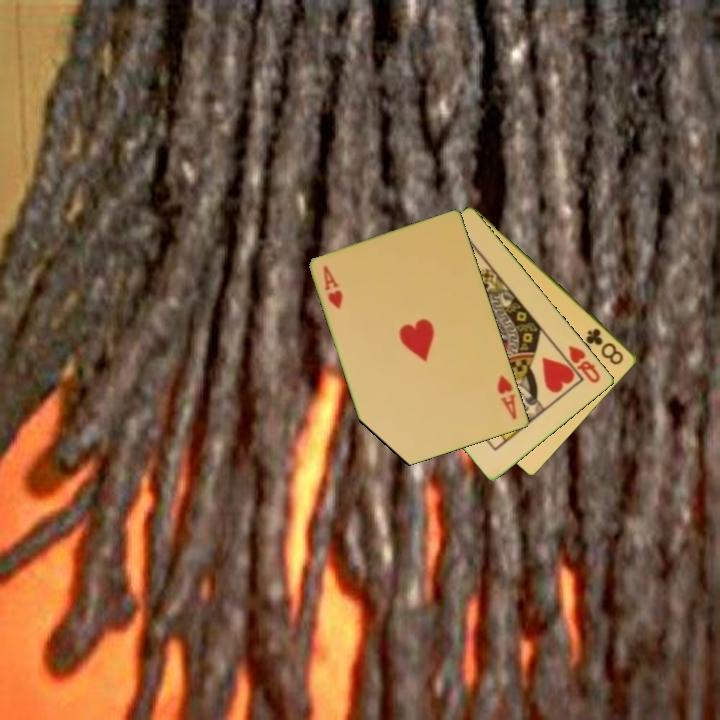8c: (582, 325, 627, 368)
Ah: (494, 371, 520, 423), (320, 262, 346, 312)
Qh: (565, 341, 603, 386)
